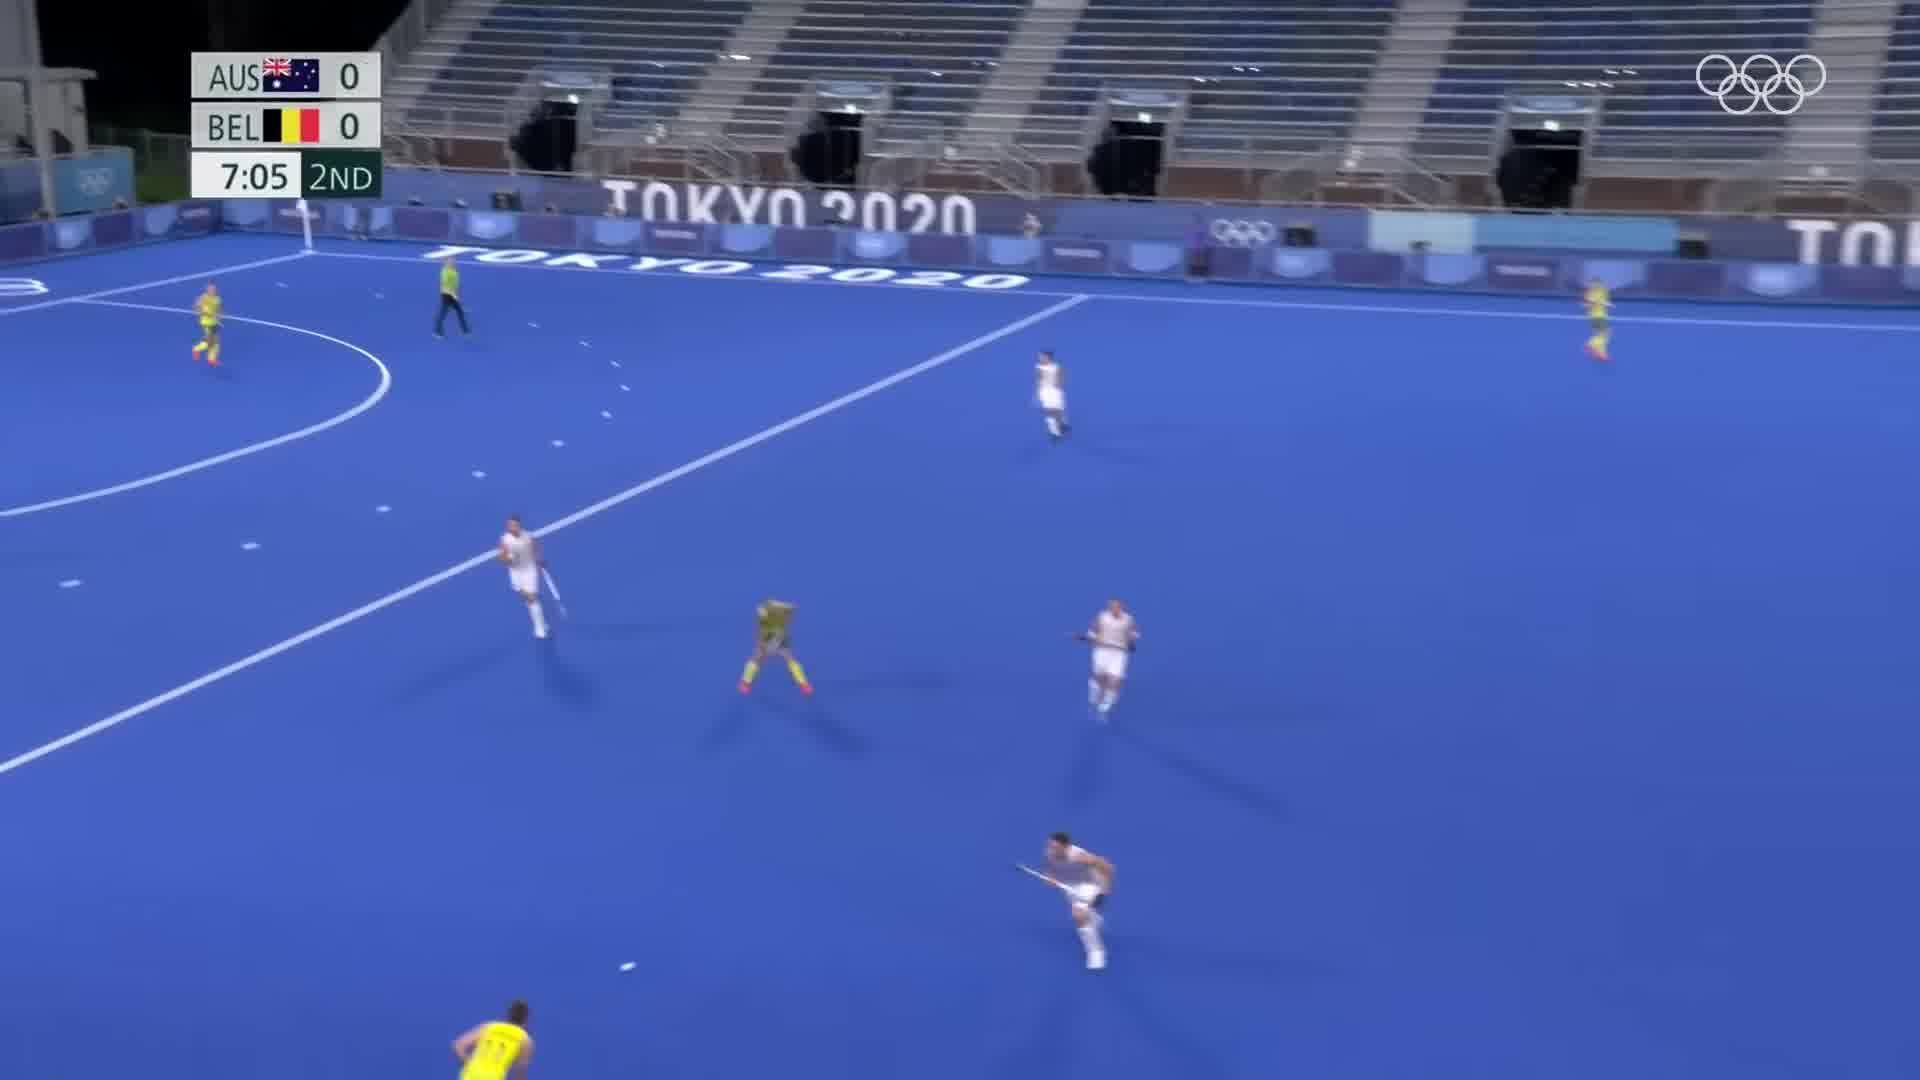ball: (613, 951, 647, 978)
